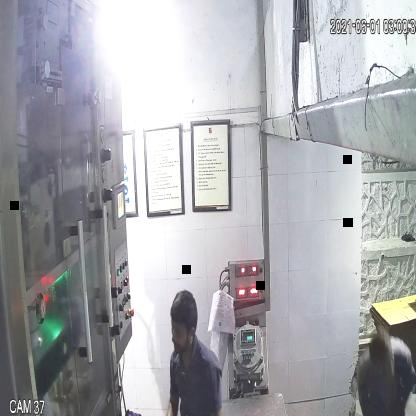no_goggles: (168, 318, 198, 342)
